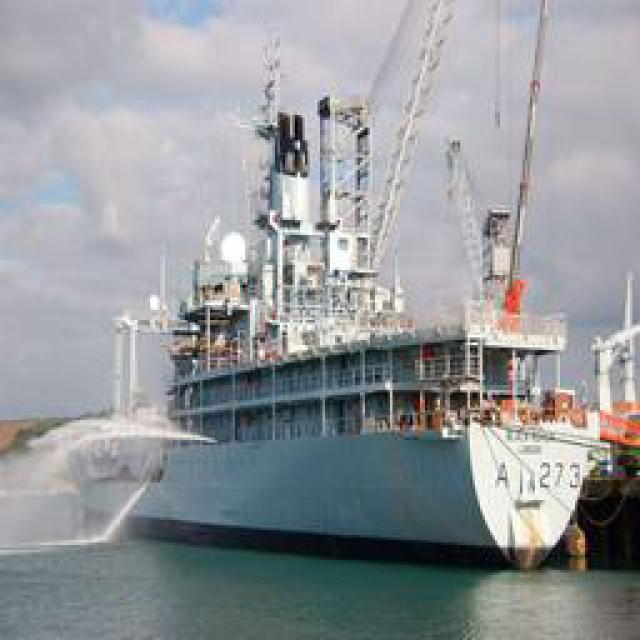Ship: (98, 1, 596, 581)
